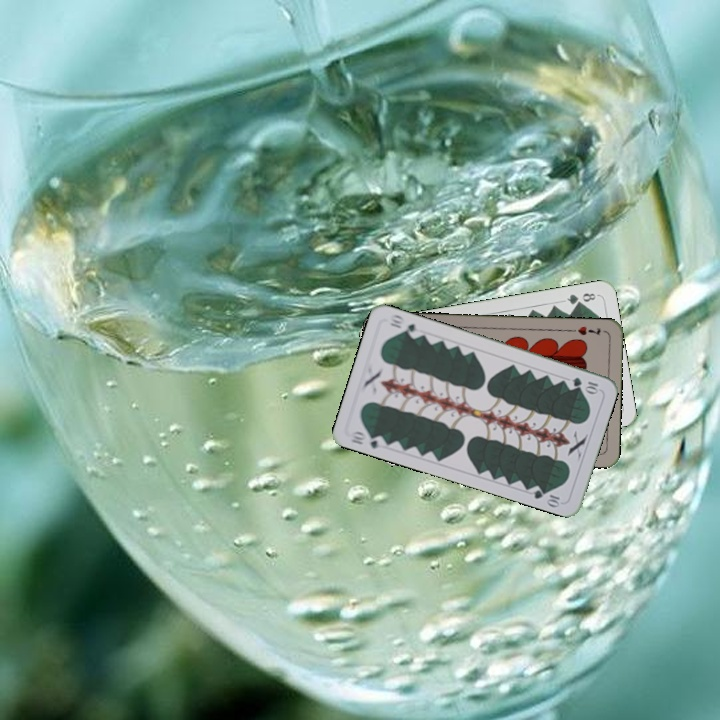G10: (347, 427, 388, 451), (568, 373, 602, 395)
G8: (563, 289, 598, 307)
H7: (566, 322, 603, 338)
